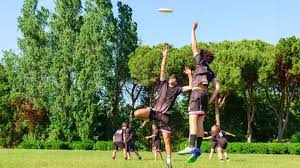disc: (157, 8, 174, 13)
